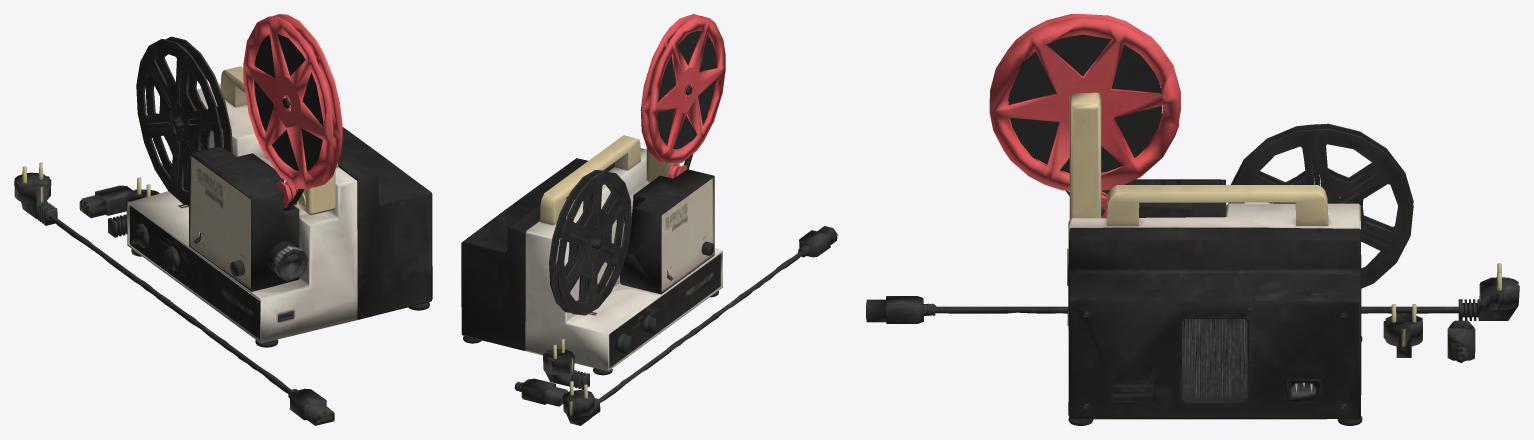
The model's file is filmstrip_projector_8mm.glb.
The picture shows the model from 3 angles, left to right: view 1: azimuth 30°, elevation 25°; view 2: azimuth 150°, elevation 25°; view 3: azimuth 270°, elevation 25°; orthographic projection. The views are drawn at different scales.
Parts seen in each view (by area): view 1: filmstrip_projector_8mm_takeup_holder; view 2: filmstrip_projector_8mm_takeup_holder; view 3: filmstrip_projector_8mm_takeup_holder.
Part boxes in pixels (box(x1,y1,x2,y2)): filmstrip_projector_8mm_takeup_holder: box(14, 14, 432, 425); filmstrip_projector_8mm_takeup_holder: box(461, 14, 837, 425); filmstrip_projector_8mm_takeup_holder: box(866, 14, 1519, 425).
Bounding box in the file's own units: 0.2523 × 0.3454 × 0.6026.
Materials: 2 (2 with a texture image).
